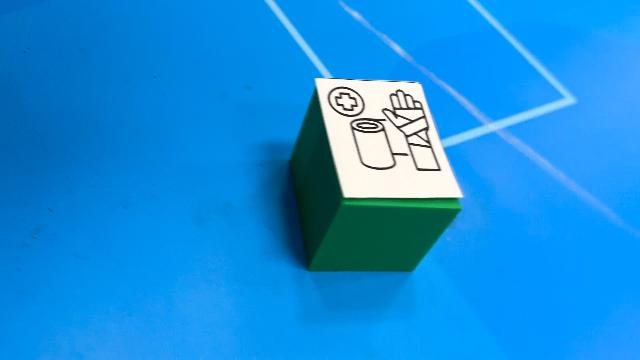bandage: (289, 78, 465, 272)
